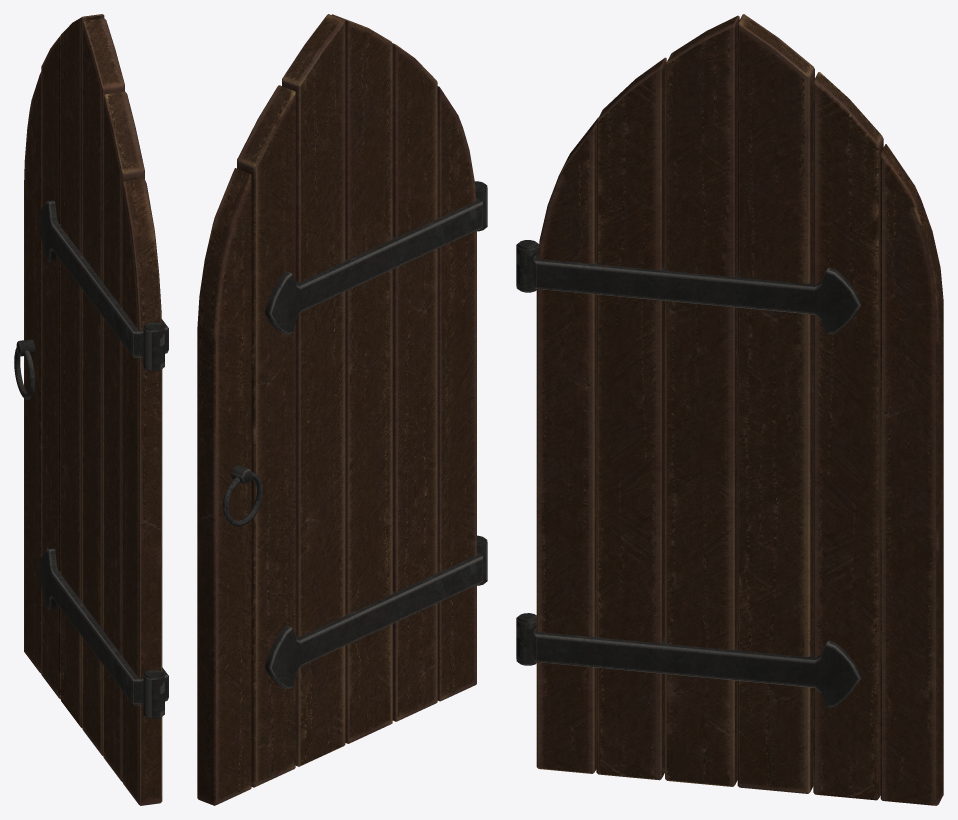
File: door.fbx
The picture shows the model from 3 angles, left to right: view 1: azimuth 30°, elevation 25°; view 2: azimuth 150°, elevation 25°; view 3: azimuth 270°, elevation 25°; orthographic projection. The views are drawn at different scales.
Parts seen in each view (by area): view 1: Door_Medieval; view 2: Door_Medieval; view 3: Door_Medieval.
Part boxes in pixels (x1,y1,x2,y2): Door_Medieval: (14,14,168,805); Door_Medieval: (197,14,487,805); Door_Medieval: (516,14,943,805).
Size of the model in its own units: 191 by 1329 by 673.
